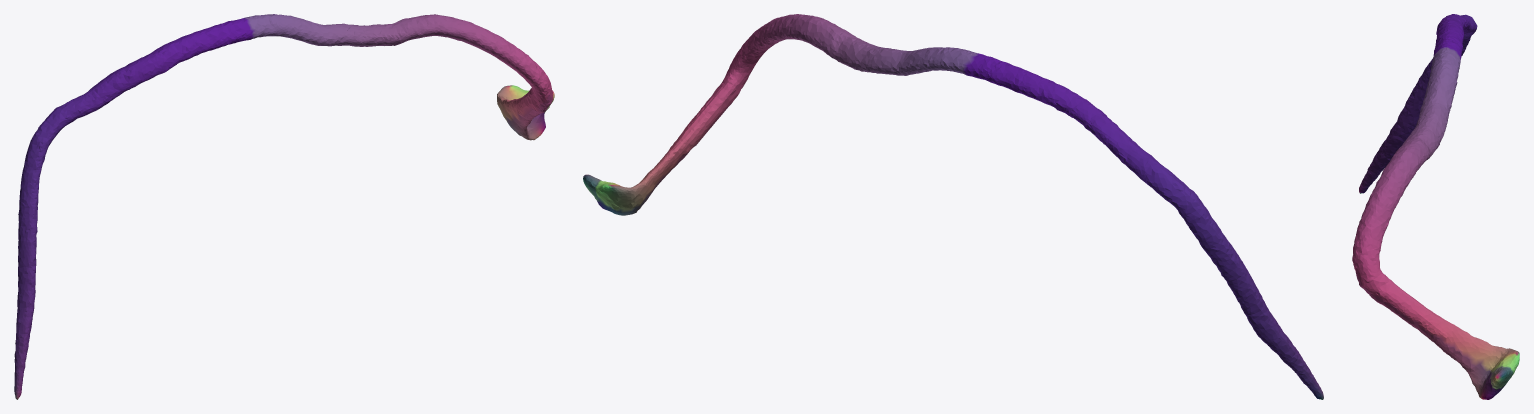
File: snake-3.off.obj
3 renders of one model, left to right at view 1: azimuth 30°, elevation 25°; view 2: azimuth 150°, elevation 25°; view 3: azimuth 270°, elevation 25°, orthographic. The views are drawn at different scales.
Bounding box in the file's own units: 1.45 × 0.6461 × 0.3541.
